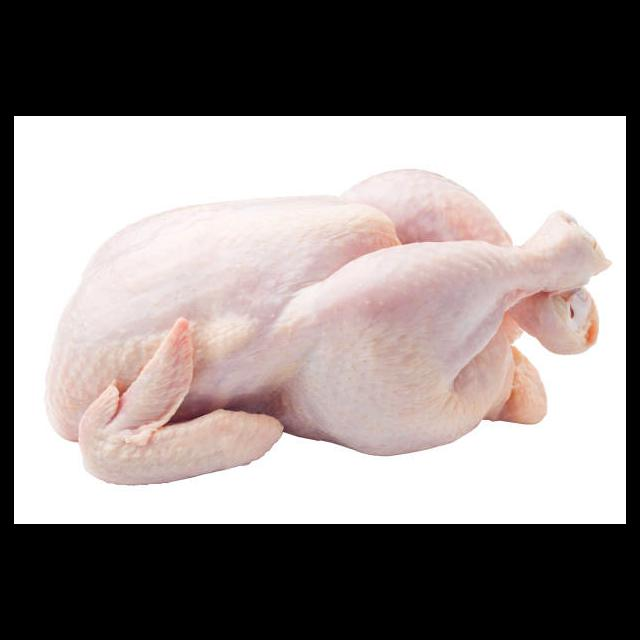chicken: (45, 168, 613, 485)
